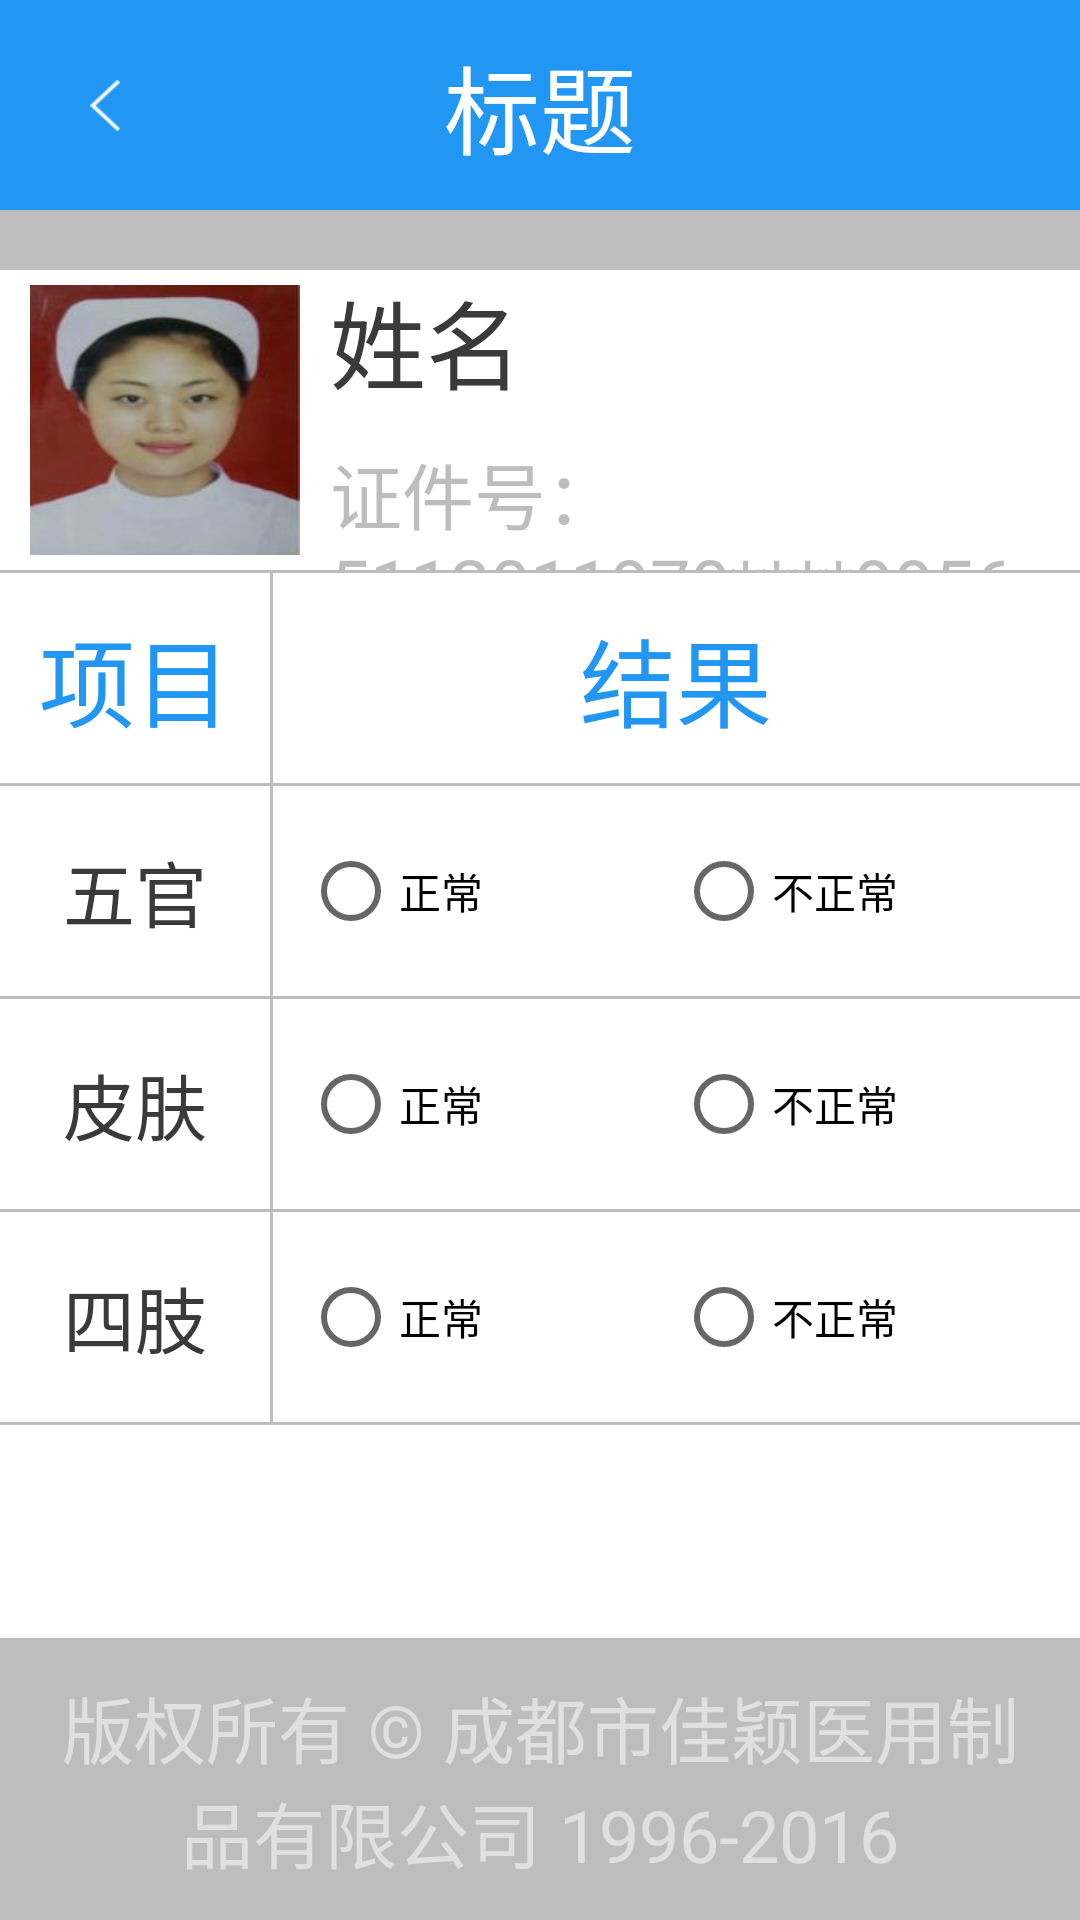

Screen size 1080x1920. Icon name, then its box in pixels as (x1, y1, x2, y2):
jiantou press: (90, 80, 120, 131)
norse: (30, 285, 300, 555)
